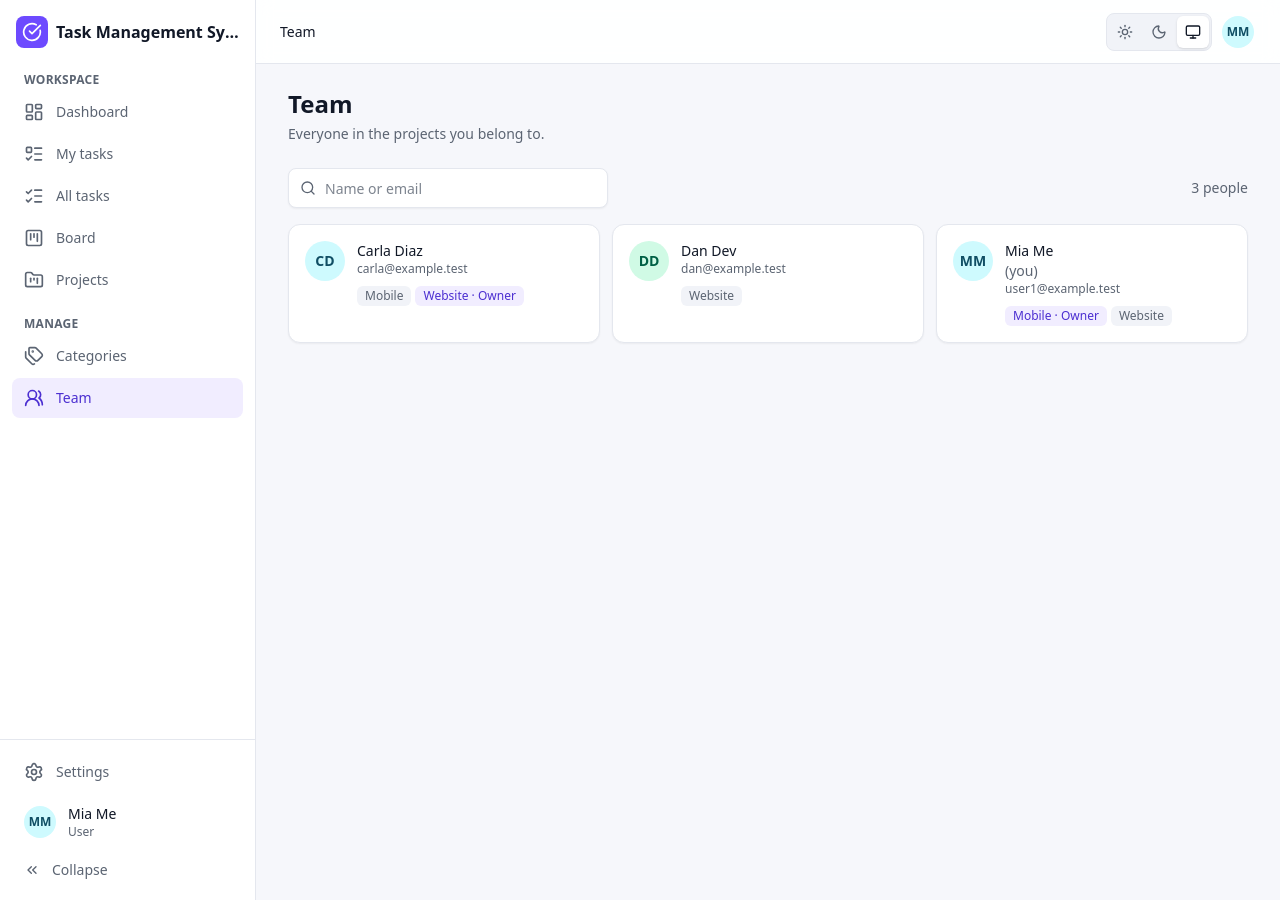
Scenario: Team › searches by name or email (kept in the URL)
This screenshot has width=1280, height=900.
Check: the list named "Team members" is shown, box [288,224,1248,343]
Type "dan@" into the search field named "Search team" at (448, 188), box [288,168,608,208]
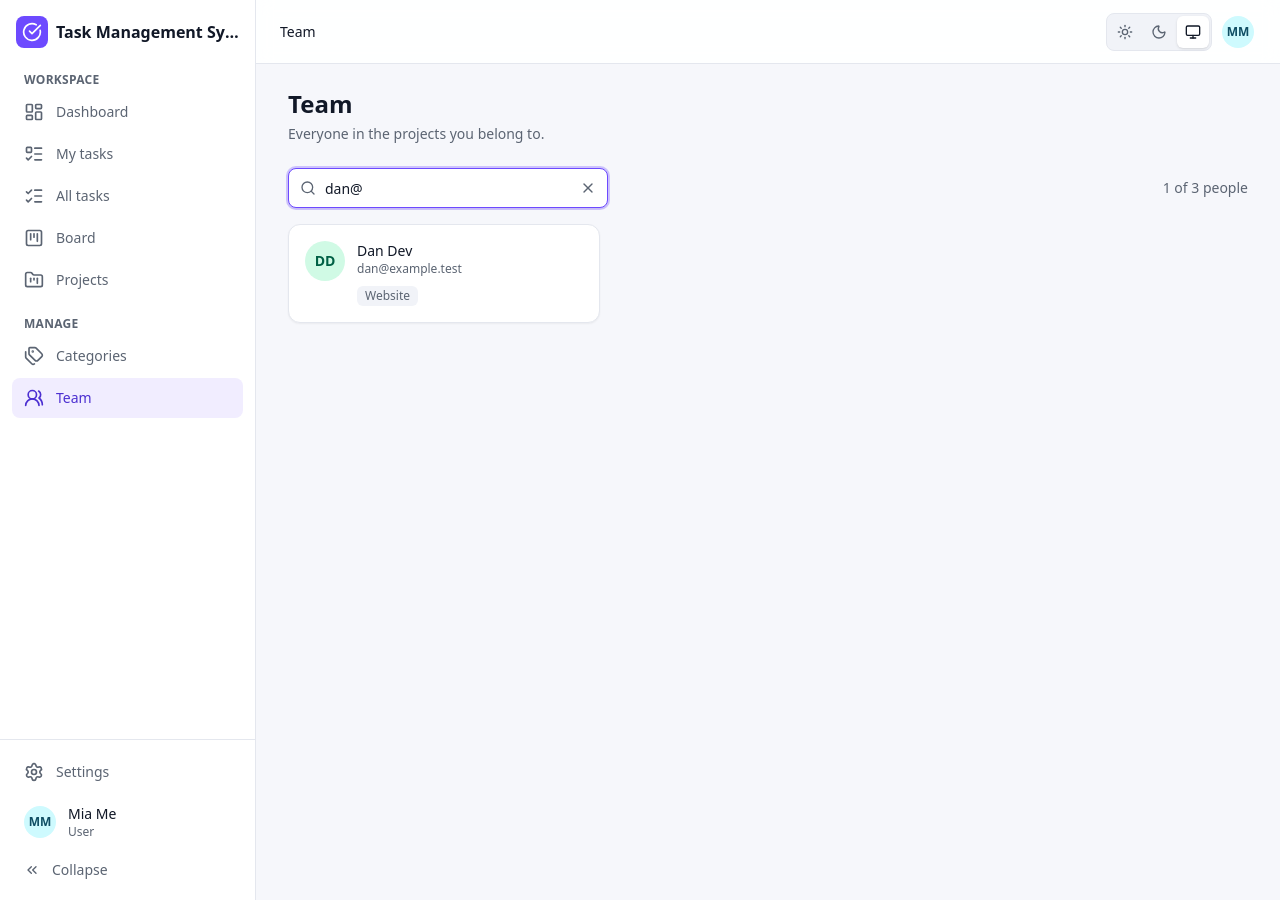
Check: the text "1 of 3 people" is shown, box [1163,178,1248,198]
